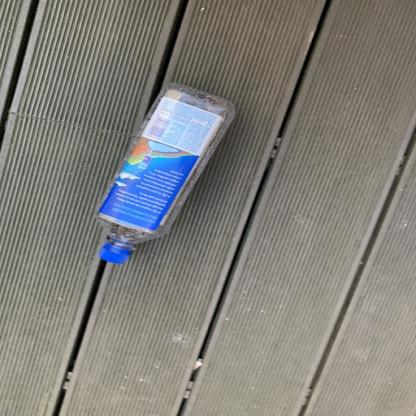trash: (93, 80, 239, 268)
